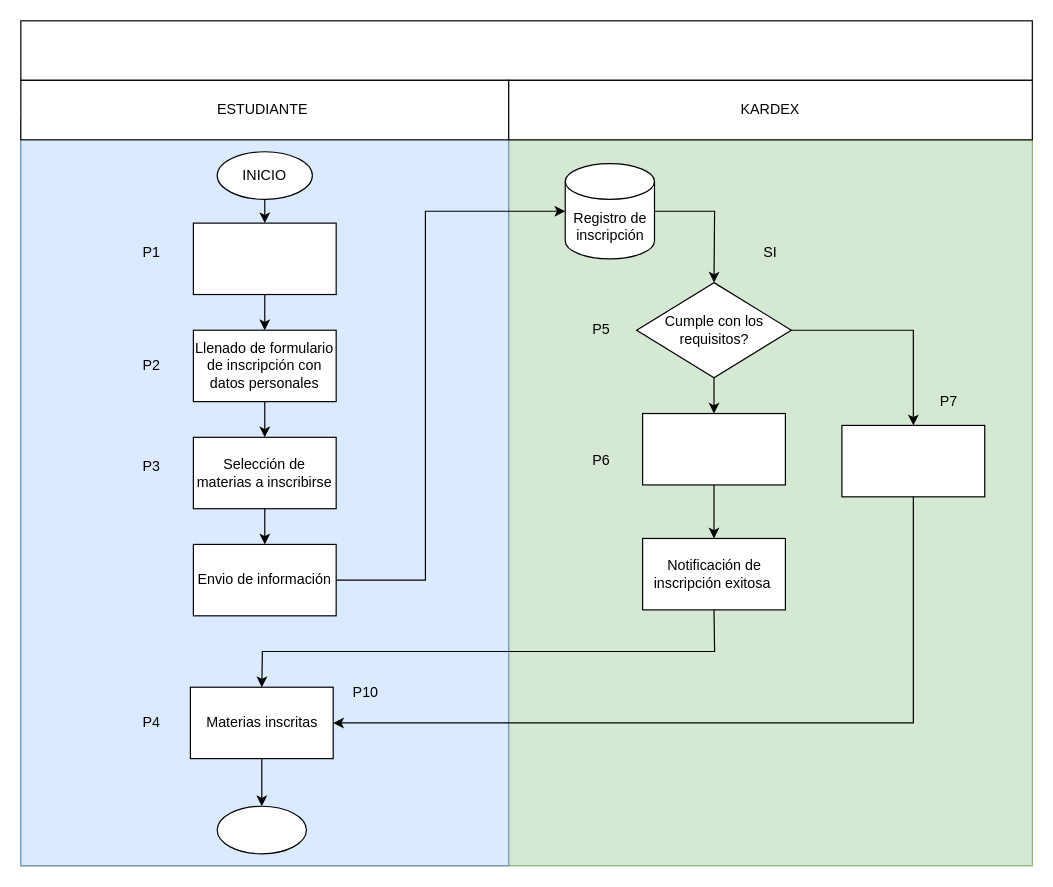
Image size: 1053x887. Some labels were removed from this diagram. Here are the shapes that lost their labels. From the top down, the box of each, then its label:
(20, 20, 1032, 80): PROCESO DE INSCRIPCION A UNA MATERIA EN TEMPORADA
(192, 222, 336, 295): Información de requisitos
(641, 412, 785, 485): Habilitación de la Incripción
(841, 424, 985, 497): Notificación de error en la inscripción
(216, 805, 306, 854): FIN
